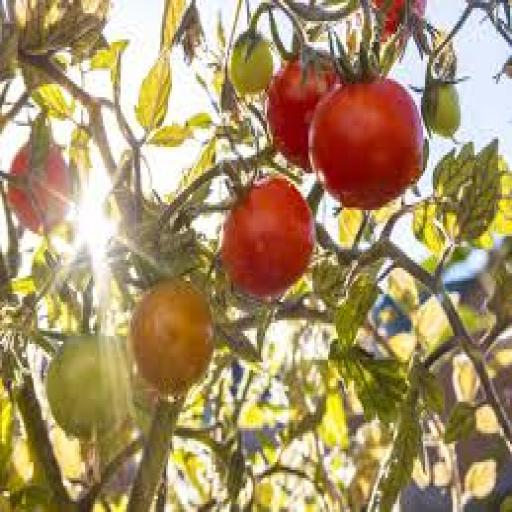tomato: (311, 79, 423, 210), (222, 179, 316, 299), (131, 281, 213, 396), (46, 337, 130, 438), (267, 61, 338, 170), (8, 145, 71, 233), (230, 32, 272, 94), (422, 82, 460, 139), (374, 0, 407, 39)
